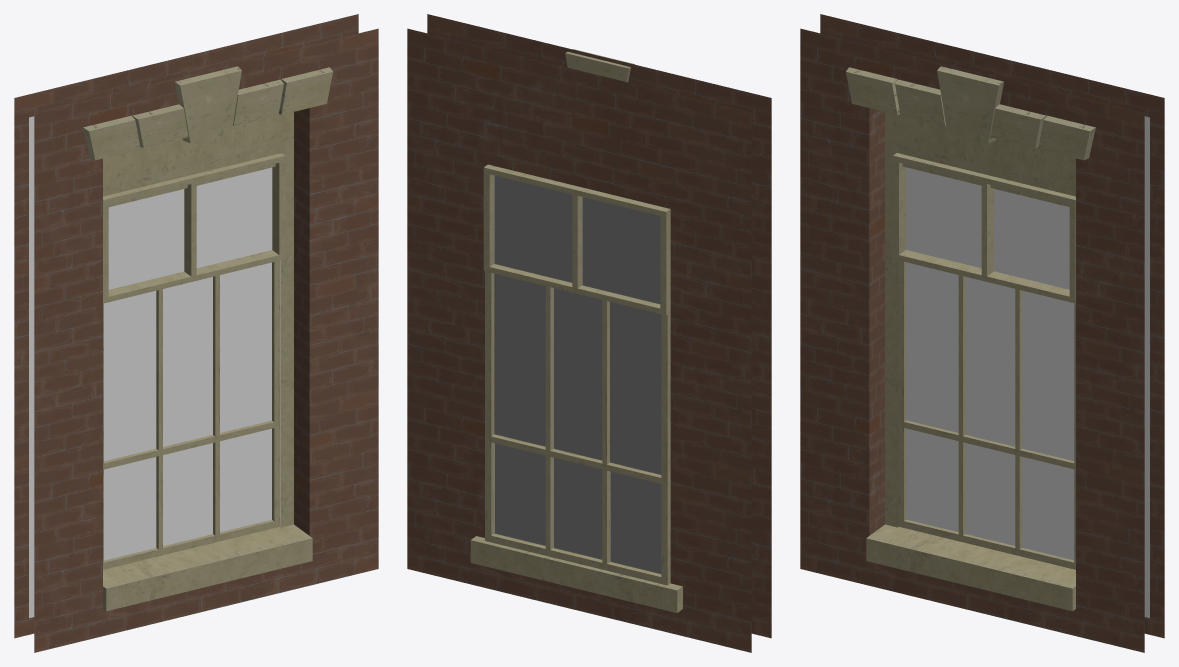
The model's file is Brick_Window_Trim.glb.
3 renders of one model, left to right at view 1: azimuth 30°, elevation 25°; view 2: azimuth 150°, elevation 25°; view 3: azimuth 330°, elevation 25°, orthographic.
Visible parts, largest first — view 1: Brick_Window_Trim; view 2: Brick_Window_Trim; view 3: Brick_Window_Trim.
Part boxes in pixels (x1,y1,x2,y2): Brick_Window_Trim: (14,14,378,652); Brick_Window_Trim: (407,14,771,652); Brick_Window_Trim: (800,14,1164,652).
Size of the model in its own units: 2 by 3 by 0.304.
Materials: 4 (2 with a texture image).
